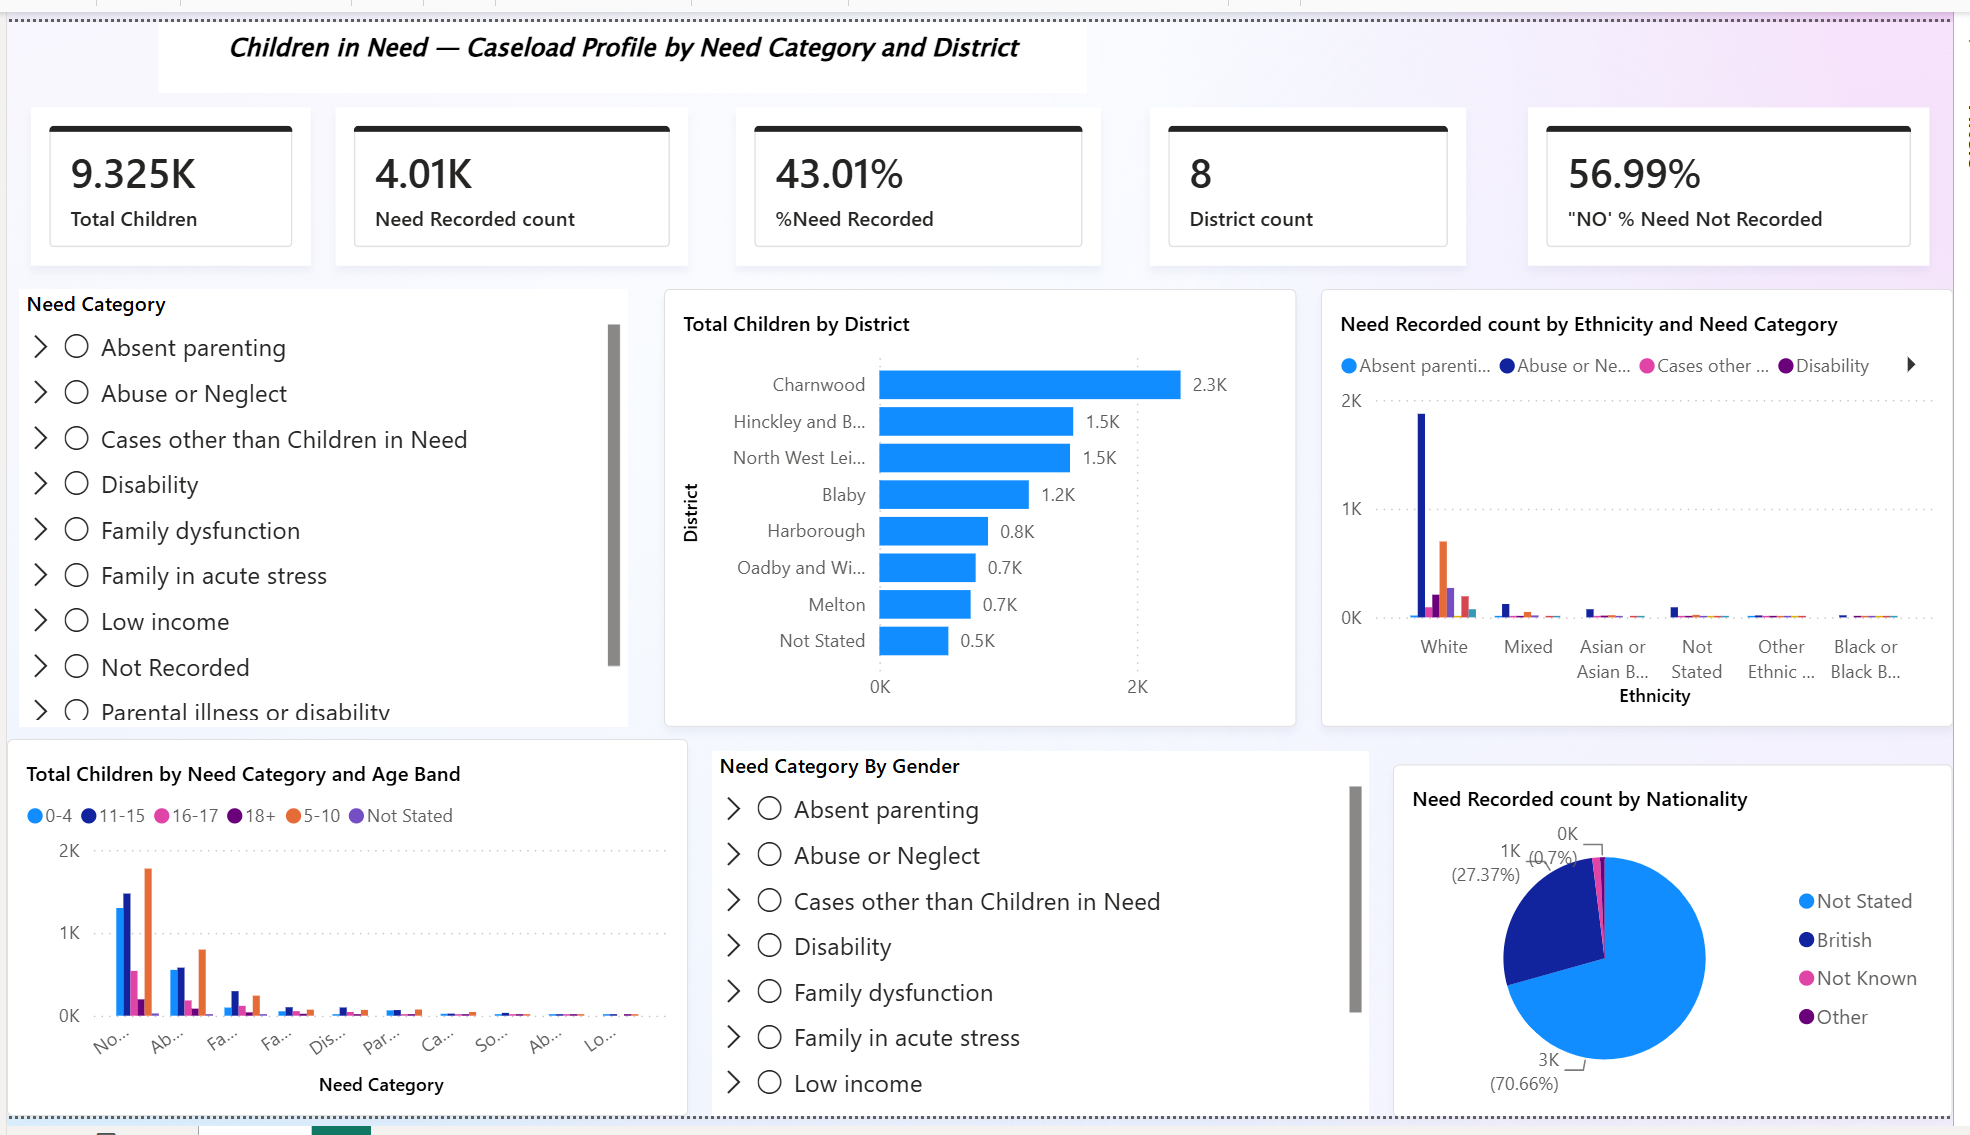

The page's visual inventory and layout, read from the dashboard file:
{"tool":"powerbi","page":{"name":"Page 1","canvas":[1280,720],"ordinal":0},"visuals":[{"type":"cardVisual","fields":{"Data":["Cleaned Data.Total Children"]},"box":[16,56,184,104],"z":0},{"type":"cardVisual","fields":{"Data":["Cleaned Data.Need Recorded count"]},"box":[216,56,232,104],"z":1000},{"type":"cardVisual","fields":{"Data":["Cleaned Data.%Need Recorded"]},"box":[480,56,240,104],"z":2000},{"type":"cardVisual","fields":{"Data":["Cleaned Data.District count"]},"box":[752,56,208,104],"z":3000},{"type":"listSlicer","fields":{"Values":["Cleaned Data.Need Category","Cleaned Data.Need Sub-category"]},"box":[8,176,400,288],"z":4000},{"type":"clusteredBarChart","fields":{"Category":["Cleaned Data.District"],"Y":["Cleaned Data.Total Children"]},"box":[432,176,416,288],"z":5000},{"type":"listSlicer","title":"Need Category By Gender","fields":{"Values":["Cleaned Data.Need Category","Cleaned Data.Gender"]},"box":[464,480,432,240],"z":6000},{"type":"pieChart","fields":{"Category":["Cleaned Data.Nationality"],"Y":["Cleaned Data.Need Recorded count"]},"box":[912,488,368,232],"z":7000},{"type":"cardVisual","fields":{"Data":["Cleaned Data.\"NO' % Need Not Recorded"]},"box":[1000,56,264,104],"z":8000},{"type":"clusteredColumnChart","fields":{"Y":["Cleaned Data.Need Recorded count"],"Category":["Cleaned Data.Ethnicity"],"Series":["Cleaned Data.Need Category"]},"box":[864,176,416,288],"z":9000},{"type":"clusteredColumnChart","fields":{"Y":["Cleaned Data.Total Children"],"Series":["Cleaned Data.Age Band"],"Category":["Cleaned Data.Need Category"]},"box":[0,472,448,248],"z":10000},{"type":"textbox","box":[100,0,610.9,46.4],"z":11000}]}

Visuals, with their boxes in screenshot pixels (x1, y1, x2, y2), scaled from the page's 1280x720 canvas onto the 1970x1135 screenshot:
cardVisual - Cleaned Data.Total Children: 25, 88, 308, 252
cardVisual - Cleaned Data.Need Recorded count: 332, 88, 690, 252
cardVisual - Cleaned Data.%Need Recorded: 739, 88, 1108, 252
cardVisual - Cleaned Data.District count: 1157, 88, 1478, 252
listSlicer - Cleaned Data.Need Category x Cleaned Data.Need Sub-category: 12, 277, 628, 731
clusteredBarChart - Cleaned Data.District x Cleaned Data.Total Children: 665, 277, 1305, 731
"Need Category By Gender" listSlicer: 714, 757, 1379, 1134
pieChart - Cleaned Data.Nationality x Cleaned Data.Need Recorded count: 1404, 769, 1969, 1134
cardVisual - Cleaned Data."NO' % Need Not Recorded: 1539, 88, 1945, 252
clusteredColumnChart - Cleaned Data.Need Recorded count x Cleaned Data.Ethnicity: 1330, 277, 1969, 731
clusteredColumnChart - Cleaned Data.Total Children x Cleaned Data.Age Band: 0, 744, 690, 1134
textbox: 154, 0, 1094, 73
